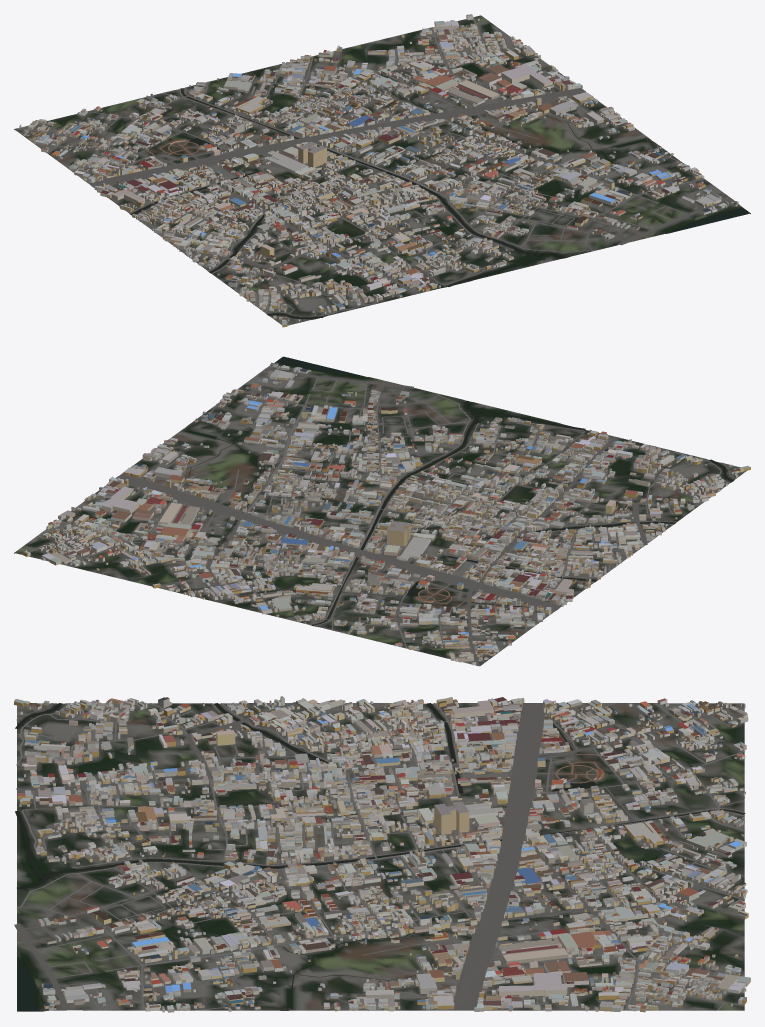
3 views of the same model, one above another, from view 1: azimuth 30°, elevation 25°; view 2: azimuth 150°, elevation 25°; view 3: azimuth 270°, elevation 25° (orthographic). The views are drawn at different scales.
Parts seen in each view (by area): view 1: buildings, ground, roads, water; view 2: buildings, ground, roads, water; view 3: buildings, ground, roads, water.
Boxes of the visible parts, x1,y1,x2,y2 form: buildings: [19, 14, 738, 327]; ground: [14, 15, 750, 325]; roads: [15, 17, 733, 321]; water: [126, 88, 749, 319]; buildings: [23, 362, 750, 665]; ground: [14, 362, 746, 666]; roads: [21, 368, 735, 665]; water: [183, 356, 733, 625]; buildings: [14, 696, 750, 1012]; ground: [17, 703, 744, 1011]; roads: [14, 702, 744, 1010]; water: [15, 703, 745, 1010].
Bounding box in the file's own units: 1418 × 46.92 × 1418.
